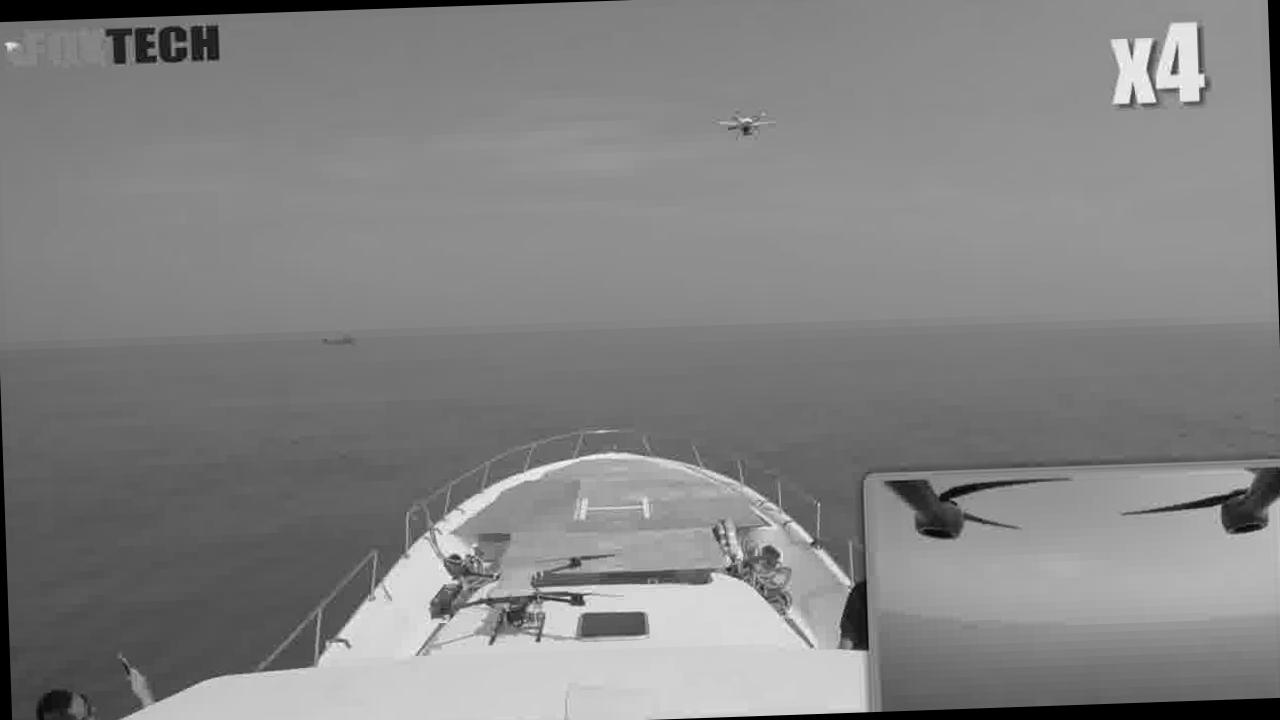drone: (410, 520, 618, 661), (727, 96, 790, 180)
